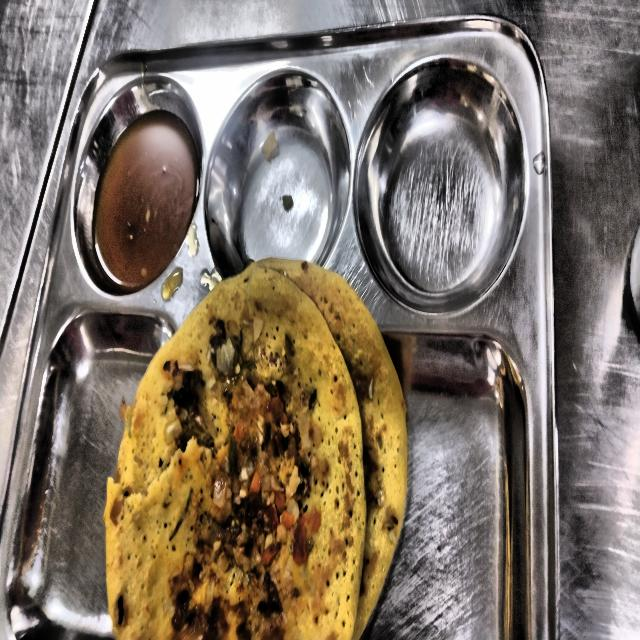Papad: (93, 112, 185, 293)
